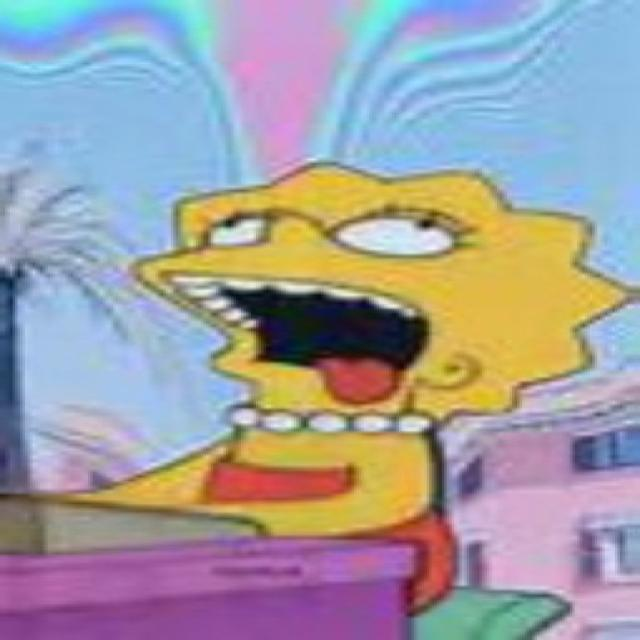Lisa Simpson: (124, 159, 634, 439)
